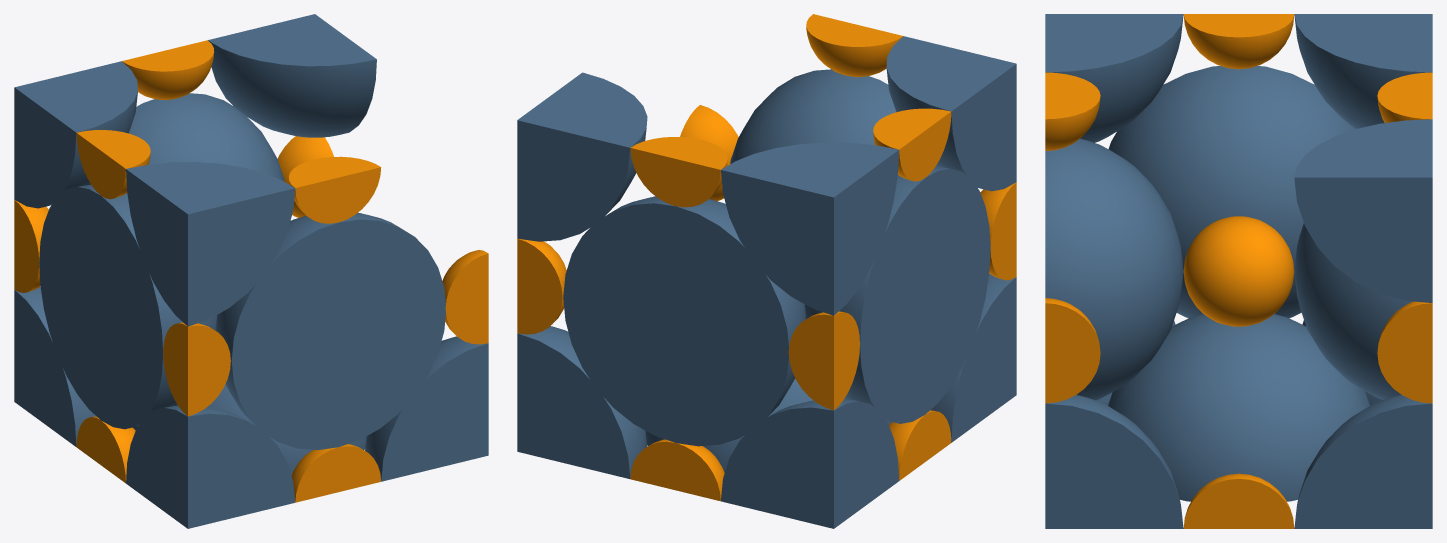
The model's file is 1_FCC_NaCL_DISSECTION.glb.
The picture shows the model from 3 angles, left to right: view 1: azimuth 30°, elevation 25°; view 2: azimuth 150°, elevation 25°; view 3: azimuth 270°, elevation 25°; orthographic projection. The views are drawn at different scales.
Parts seen in each view (by area): view 1: Object_2, Object_3, Object_4; view 2: Object_2, Object_3, Object_4; view 3: Object_2, Object_3, Object_4.
Part boxes in pixels (<box>): Object_2: <box>14,14,488,528</box>; Object_3: <box>15,40,487,500</box>; Object_4: <box>14,52,488,502</box>; Object_2: <box>517,36,1016,528</box>; Object_3: <box>517,14,1016,500</box>; Object_4: <box>518,27,1015,501</box>; Object_2: <box>1045,14,1432,528</box>; Object_3: <box>1045,15,1432,528</box>; Object_4: <box>1045,14,1431,520</box>.
Size of the model in its own units: 2.8 by 2.8 by 2.8.
